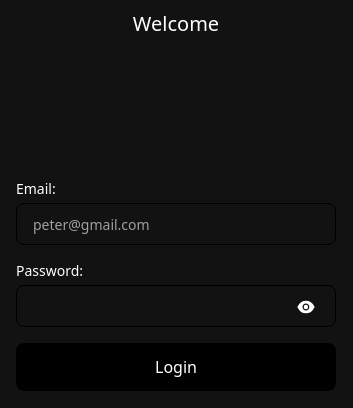
Test case: <LoginForm /> › Should show/hide password
Click the 1st button: (306, 307) [296,297,316,317]
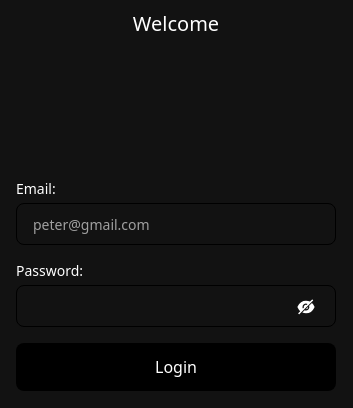
Expected: the icon with test id "eye-icon" is gone
Expected: the icon with test id "eye-invisible-icon" is shown, [296,297,316,317]
